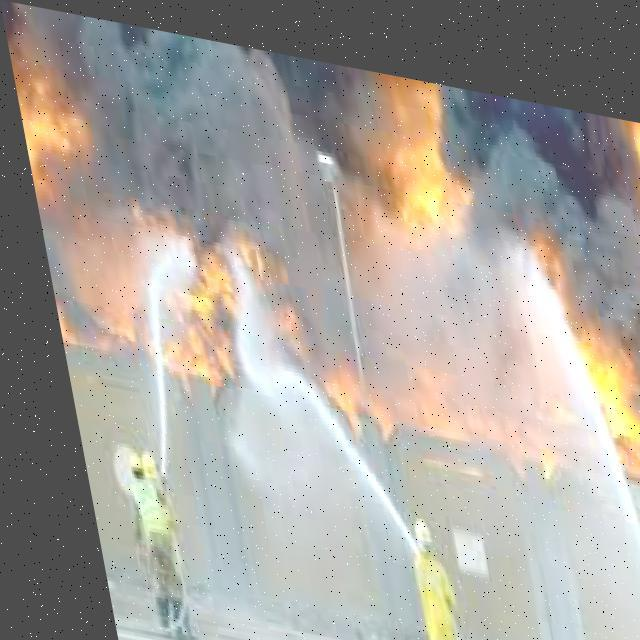Fire: (0, 3, 639, 456)
